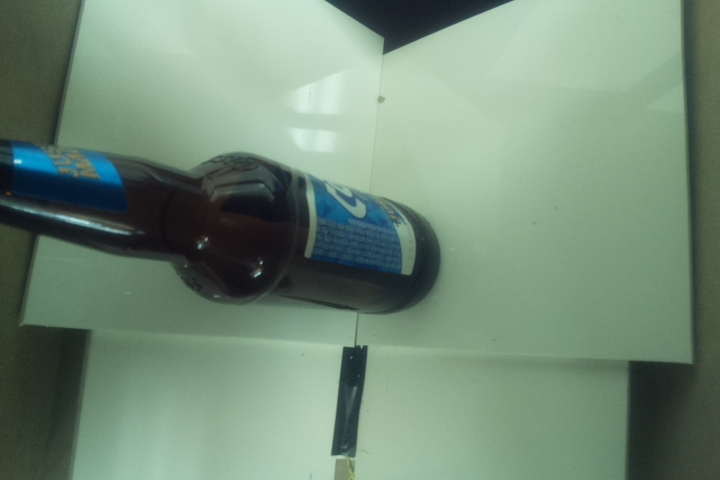makju: (1, 135, 445, 320)
